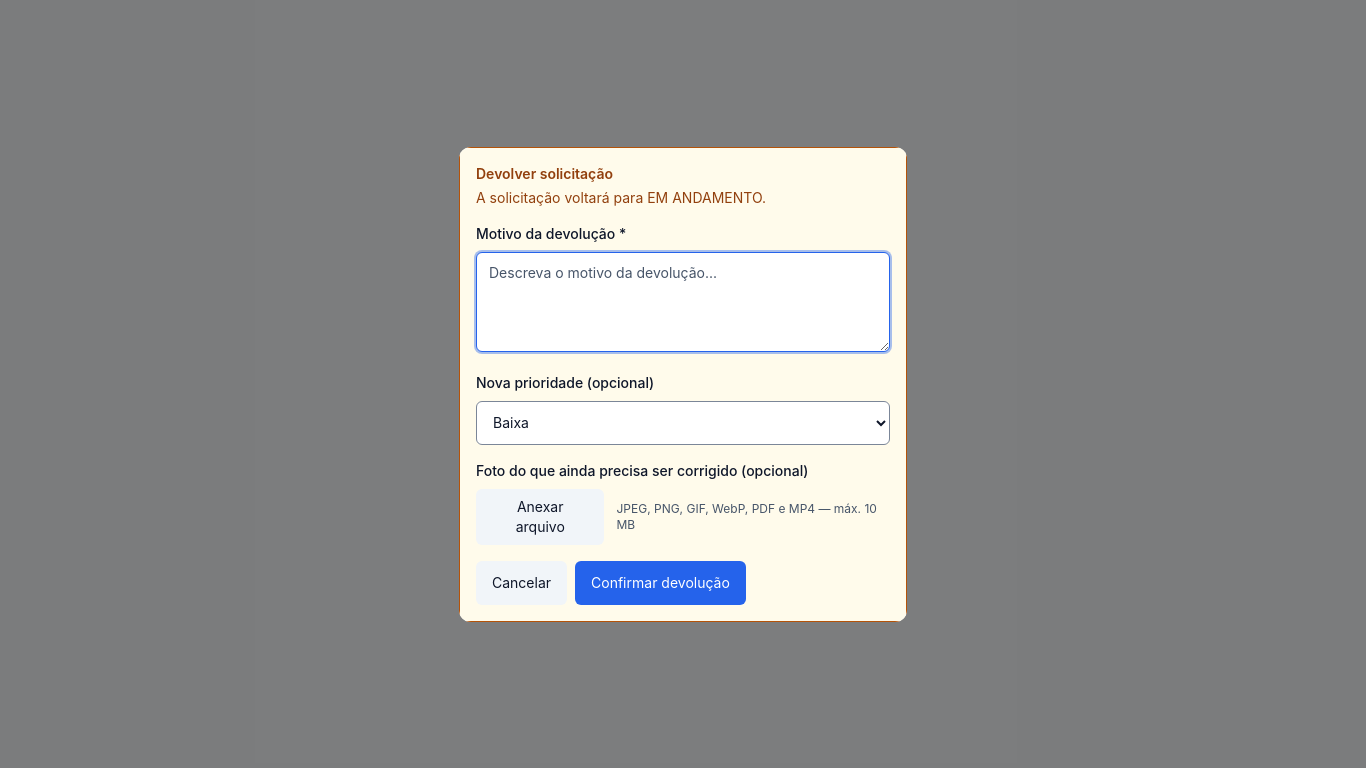
it: DialogoDaAcao › deve continuar aberto com o erro e o que foi preenchido quando o envio falha
The width and height of the screenshot is (1366, 768).
Type "Solda incompleta" into the text box labelled "Motivo da devolução *". click: {"x": 683, "y": 302}
box: [476,252,890,352]
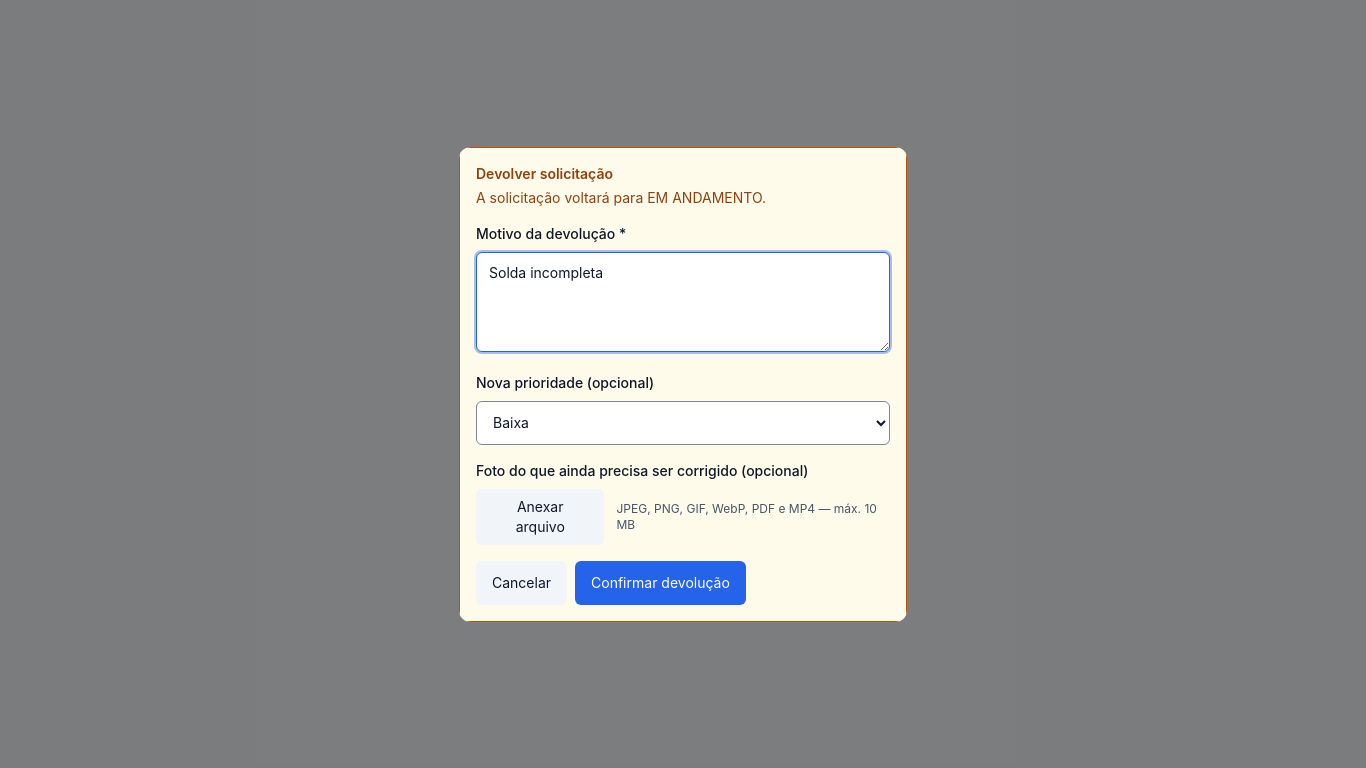
Click the button "Confirmar devolução". click: {"x": 660, "y": 582}
box: [575,560,746,604]
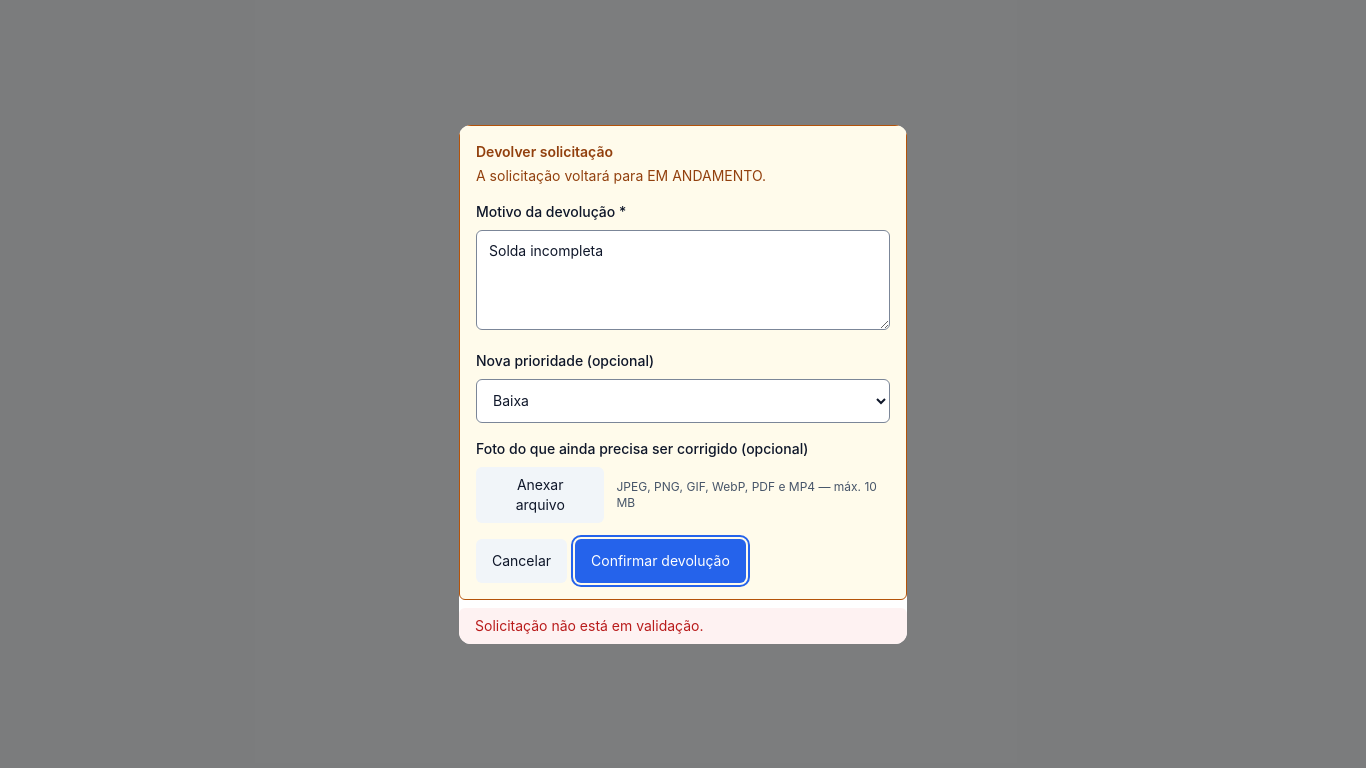
Expected: the message reads "Solicitação não está em validação.", [475,616,704,634]
